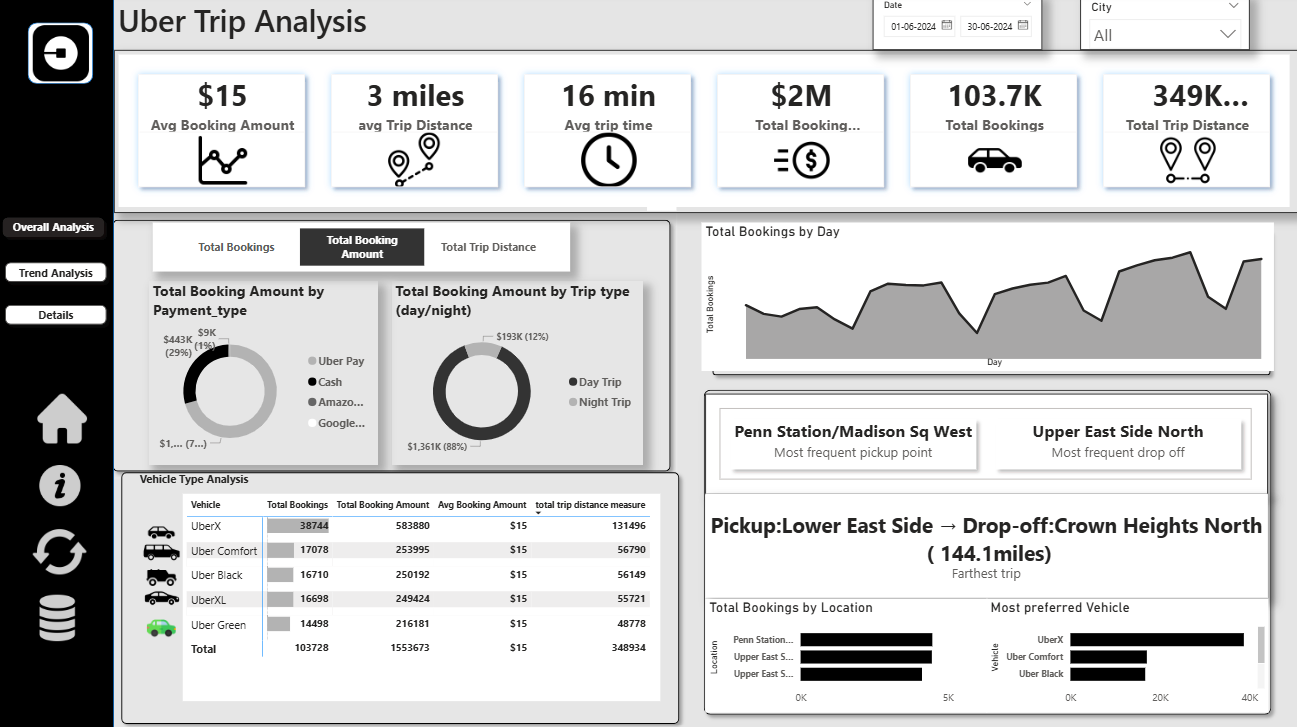

This screenshot's page, from the dashboard's own definition file:
{"tool":"powerbi","page":{"name":"Overall Analysis","canvas":[1600,900],"ordinal":0},"visuals":[{"type":"shape","box":[48.1,34.1,80,75],"z":0,"group":"g1"},{"type":"shape","box":[142.2,266,700.1,325.6],"z":0},{"type":"shape","box":[10.3,0,142,900.5],"z":1000},{"type":"image","box":[53.5,33.6,68.8,74.9],"z":1000,"group":"g1"},{"type":"textbox","box":[152.7,0,322.5,66.9],"z":2000},{"type":"cardVisual","fields":{"Data":["Table1.Avg Booking Amount","Table1.avg Trip Distance","Table1.Avg trip time","Table1.Total Booking Amount","Table1.Total Bookings","Table1.Total Trip Distance"]},"box":[152.7,66.9,1447.7,199],"z":3000},{"type":"slicer","fields":{"Values":["Dynamic Measure.Dynamic Measure"]},"box":[200.2,278.2,510.5,59.6],"z":4000},{"type":"donutChart","fields":{"Y":["Table1.Total Booking Amount"],"Category":["Table1.Payment_type"]},"box":[195.7,350,279.7,224.7],"z":5000},{"type":"donutChart","fields":{"Y":["Table1.Total Booking Amount"],"Category":["Table1.day/night var hourofday"]},"box":[492.2,350,307.2,224.7],"z":6000},{"type":"shape","box":[152.9,574.7,700.1,325.6],"z":7000},{"type":"pivotTable","fields":{"Rows":["Table1.Vehicle"],"Values":["Table1.Total Bookings","Table1.Total Booking Amount","Table1.Avg Booking Amount","Table1.total trip distance measure"]},"box":[236.9,609.9,583.9,253.7],"z":8000},{"type":"image","box":[182.4,756.6,58.1,35.2],"z":9000},{"type":"image","box":[179.3,640.5,64.2,33.6],"z":10000},{"type":"image","box":[187.7,712.3,47.4,50.4],"z":11000},{"type":"image","box":[186.9,657.3,48.9,48.9],"z":12000},{"type":"image","box":[176.2,694,70.3,36.7],"z":13000},{"type":"textbox","box":[165.1,577.8,171.2,32.1],"z":14000},{"type":"shape","box":[875.9,278.2,700.1,195.7],"z":15000},{"type":"stackedAreaChart","fields":{"Category":["Calendar.Date.Variation.Date Hierarchy.Day"],"Y":["Table1.Total Bookings"]},"box":[871.4,277.9,699.8,181.8],"z":16000},{"type":"shape","box":[864.5,473.4,711.8,415.1],"z":17000},{"type":"cardVisual","fields":{"Data":["Table1.Most frequent pickup point","Table1.Most frequent drop off"]},"box":[876.5,487.1,687.8,123.5],"z":18000},{"type":"card","fields":{"Values":["Table1.Farthest trip"]},"box":[876.5,610.6,687.8,126.9],"z":19000},{"type":"barChart","fields":{"Category":["Location Table.Location"],"Y":["Table1.Total Bookings"]},"box":[876.5,737.6,344.8,138.9],"z":20000},{"type":"barChart","title":"Most preferred Vehicle","fields":{"Category":["Table1.Vehicle"],"Y":["CountNonNull(Table1.PULocationID)"]},"box":[1219.6,737.6,344.8,138.9],"z":21000},{"type":"slicer","fields":{"Values":["Calendar.Date"]},"box":[1080.6,0,207.5,66.9],"z":22000},{"type":"slicer","fields":{"Values":["Location Table.City"]},"box":[1334.5,0,207.5,66.9],"z":23000},{"type":"group","id":"g1","title":"Group 1","box":[48.1,33.6,80,75.5],"z":24000},{"type":"pageNavigator","box":[10.7,266,142.2,148.3],"z":24001},{"type":"image","box":[53.5,487.6,71.8,61.1],"z":24002},{"type":"image","box":[53.5,574.7,65.7,50.4],"z":24003},{"type":"image","box":[53.5,648.1,65.7,65.7],"z":24004},{"type":"image","box":[55,724.5,56.6,74.9],"z":24005}]}

Visuals, with their boxes on the page's 1600x900 design canvas (x1, y1, x2, y2). These are canvas units, not pixel positions in the 1297x727 screenshot, which may show the page scaled, cropped or inside an application window:
shape: (48,34,128,109)
shape: (142,266,842,592)
shape: (10,0,152,900)
image: (54,34,122,108)
textbox: (153,0,475,67)
cardVisual - Table1.Avg Booking Amount x Table1.avg Trip Distance: (153,67,1600,266)
slicer - Dynamic Measure.Dynamic Measure: (200,278,711,338)
donutChart - Table1.Total Booking Amount x Table1.Payment_type: (196,350,475,575)
donutChart - Table1.Total Booking Amount x Table1.day/night var hourofday: (492,350,799,575)
shape: (153,575,853,900)
pivotTable - Table1.Vehicle x Table1.Total Bookings: (237,610,821,864)
image: (182,757,240,792)
image: (179,640,244,674)
image: (188,712,235,763)
image: (187,657,236,706)
image: (176,694,246,731)
textbox: (165,578,336,610)
shape: (876,278,1576,474)
stackedAreaChart - Calendar.Date.Variation.Date Hierarchy.Day x Table1.Total Bookings: (871,278,1571,460)
shape: (864,473,1576,888)
cardVisual - Table1.Most frequent pickup point x Table1.Most frequent drop off: (876,487,1564,611)
card - Table1.Farthest trip: (876,611,1564,738)
barChart - Location Table.Location x Table1.Total Bookings: (876,738,1221,876)
"Most preferred Vehicle" barChart: (1220,738,1564,876)
slicer - Calendar.Date: (1081,0,1288,67)
slicer - Location Table.City: (1334,0,1542,67)
"Group 1" group: (48,34,128,109)
pageNavigator: (11,266,153,414)
image: (54,488,125,549)
image: (54,575,119,625)
image: (54,648,119,714)
image: (55,724,112,799)
